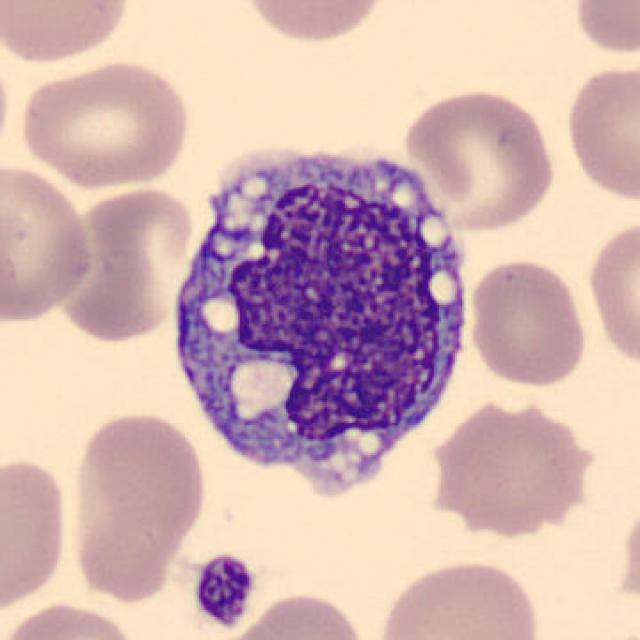Monocyte: (160, 125, 480, 510)
Platelets: (188, 552, 258, 633)
RBC: (64, 405, 210, 603), (12, 56, 196, 190), (400, 83, 560, 234), (54, 182, 198, 344), (433, 406, 590, 536), (466, 256, 590, 390), (0, 161, 96, 326), (371, 553, 547, 640), (0, 451, 73, 619), (562, 60, 638, 204), (204, 587, 377, 640), (0, 0, 135, 67), (585, 213, 638, 372), (238, 0, 395, 46), (0, 597, 147, 640), (569, 0, 640, 58), (0, 41, 14, 172)
